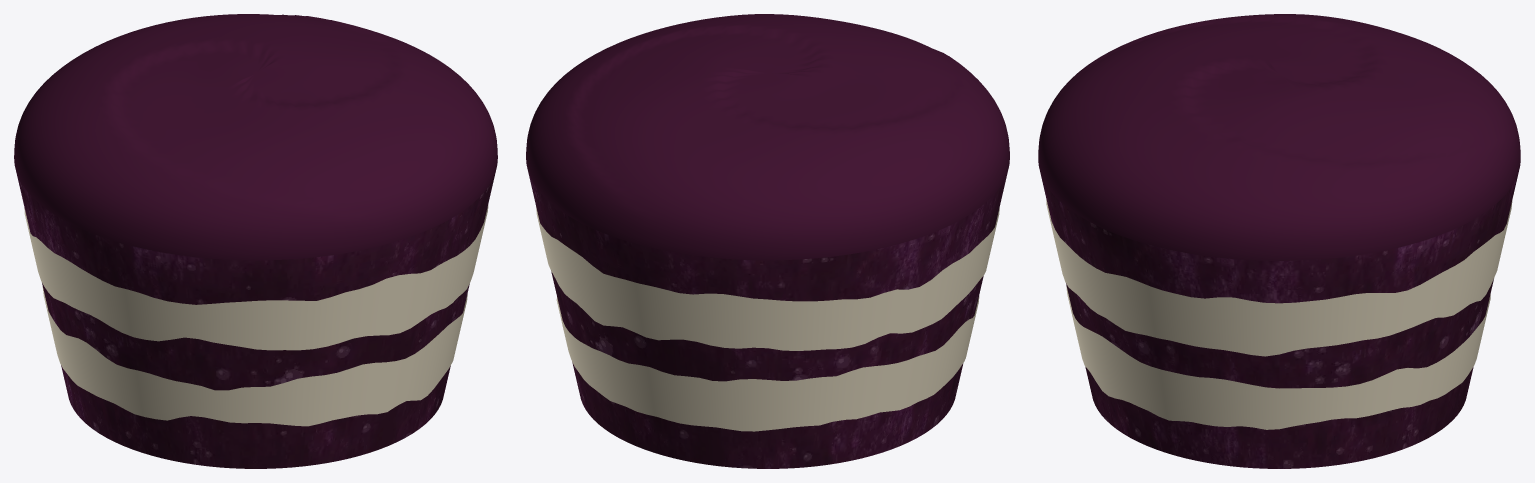
Rendered from base-acai-pote-150.glb.
The picture shows the model from 3 angles, left to right: view 1: azimuth 30°, elevation 25°; view 2: azimuth 150°, elevation 25°; view 3: azimuth 270°, elevation 25°; orthographic projection.
Visible parts, largest first — view 1: base-acai-pote-150, base-acai-pote-150-camada-2, base-acai-pote-150-camada-1; view 2: base-acai-pote-150, base-acai-pote-150-camada-2, base-acai-pote-150-camada-1; view 3: base-acai-pote-150, base-acai-pote-150-camada-2, base-acai-pote-150-camada-1.
Part boxes in pixels (box(x1,y1,x2,y2)): base-acai-pote-150: box(14, 14, 497, 468); base-acai-pote-150-camada-2: box(24, 205, 488, 350); base-acai-pote-150-camada-1: box(42, 287, 467, 426); base-acai-pote-150: box(526, 14, 1009, 468); base-acai-pote-150-camada-2: box(536, 206, 999, 350); base-acai-pote-150-camada-1: box(556, 295, 979, 431); base-acai-pote-150: box(1038, 14, 1520, 468); base-acai-pote-150-camada-2: box(1046, 199, 1512, 356); base-acai-pote-150-camada-1: box(1066, 286, 1490, 429).
Bounding box in the file's own units: 0.0746 × 0.0542 × 0.0746.
3 materials, 1 textured.
